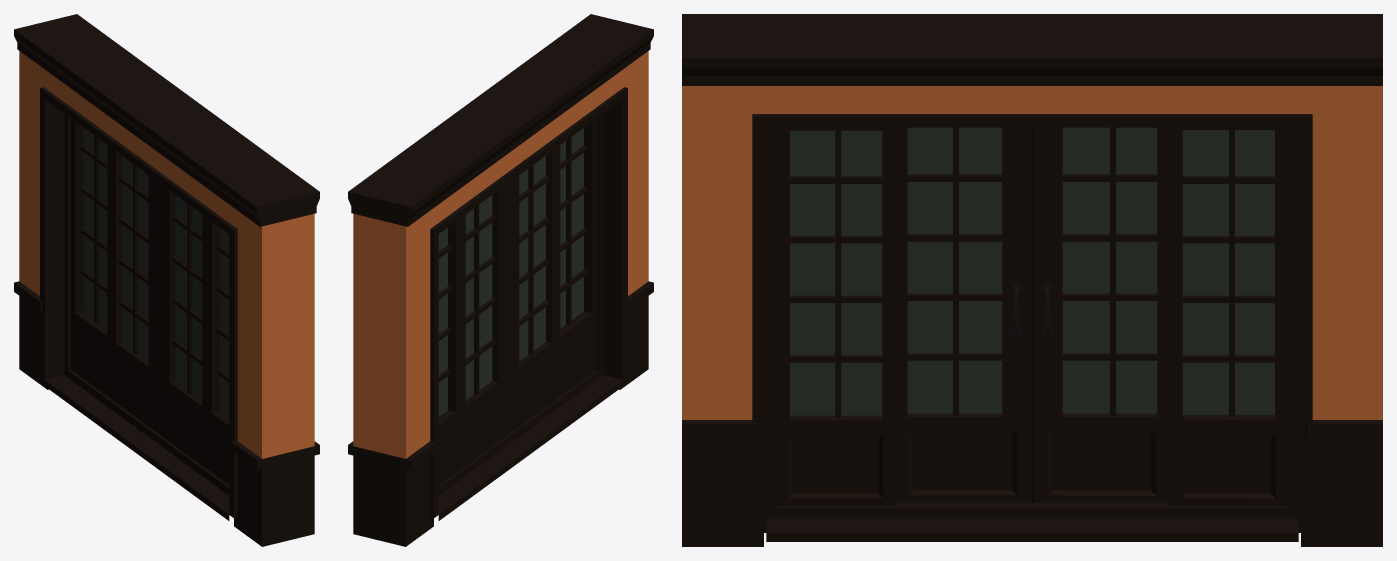
File: BalconyDoorWall_Final.fbx
3 views of the same model, side by side, from view 1: azimuth 30°, elevation 25°; view 2: azimuth 150°, elevation 25°; view 3: azimuth 270°, elevation 25° (orthographic). The views are drawn at different scales.
Parts seen in each view (by area): view 1: S_BalconyDoorWall; view 2: S_BalconyDoorWall; view 3: S_BalconyDoorWall.
Part boxes in pixels (x1,y1,x2,y2): S_BalconyDoorWall: (14, 14, 319, 546); S_BalconyDoorWall: (348, 14, 653, 546); S_BalconyDoorWall: (682, 14, 1382, 546).
Bounding box in the file's own units: 0.5994 × 3.1 × 4.
